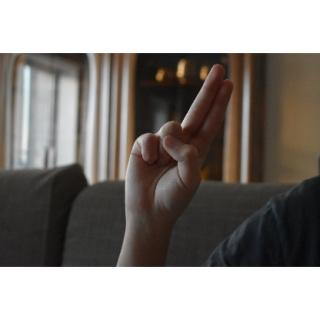TA: (119, 61, 238, 230)
